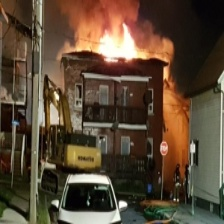fire: (98, 28, 138, 61)
smoke: (57, 2, 151, 38)
